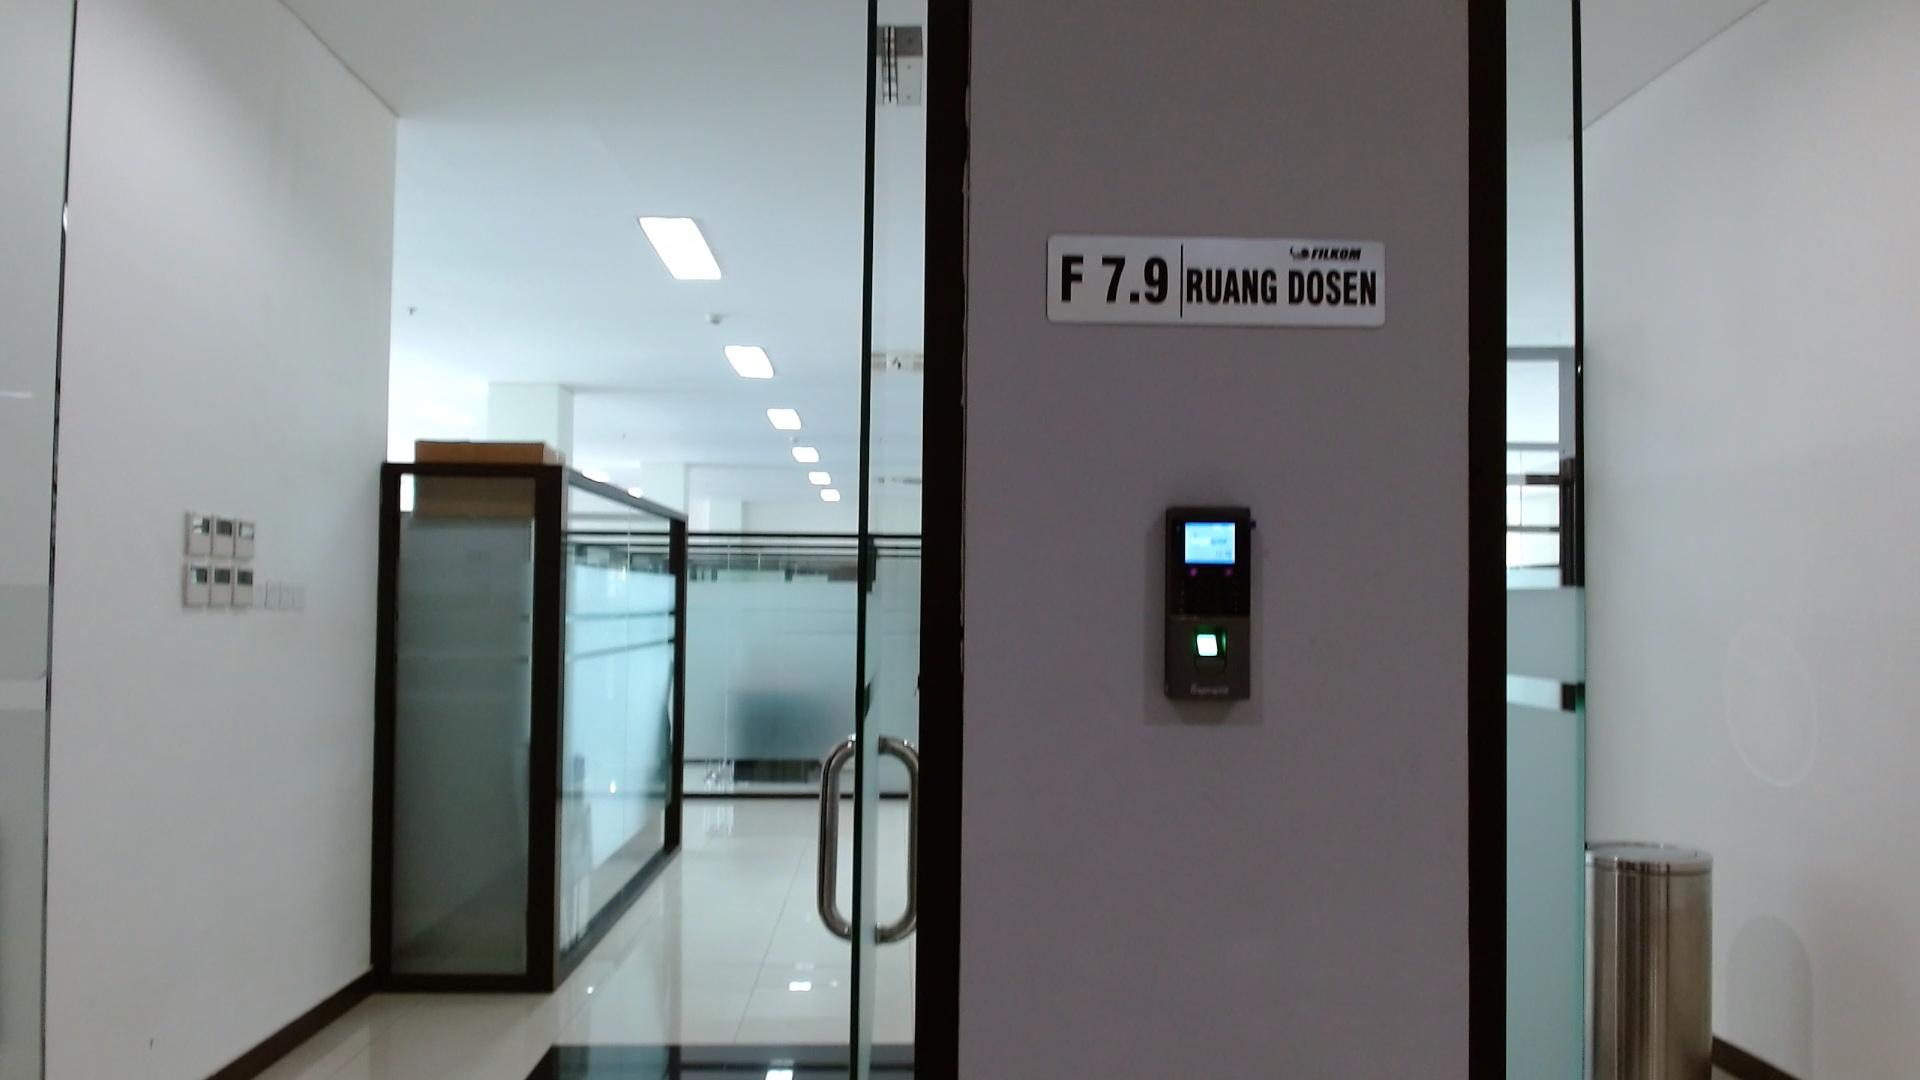plate: (1046, 233, 1386, 327)
